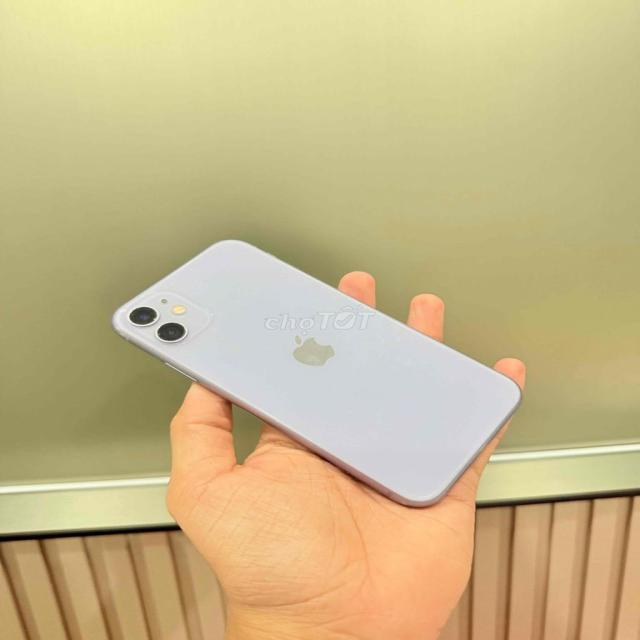gen_11: (102, 234, 533, 510)
